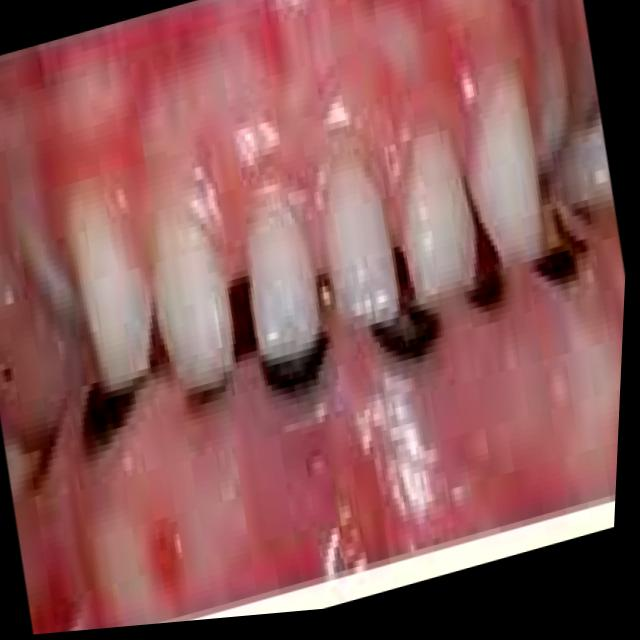cariess: (373, 291, 439, 362), (263, 339, 325, 399), (84, 394, 133, 455), (469, 268, 503, 314), (536, 251, 575, 285), (190, 392, 223, 406)
